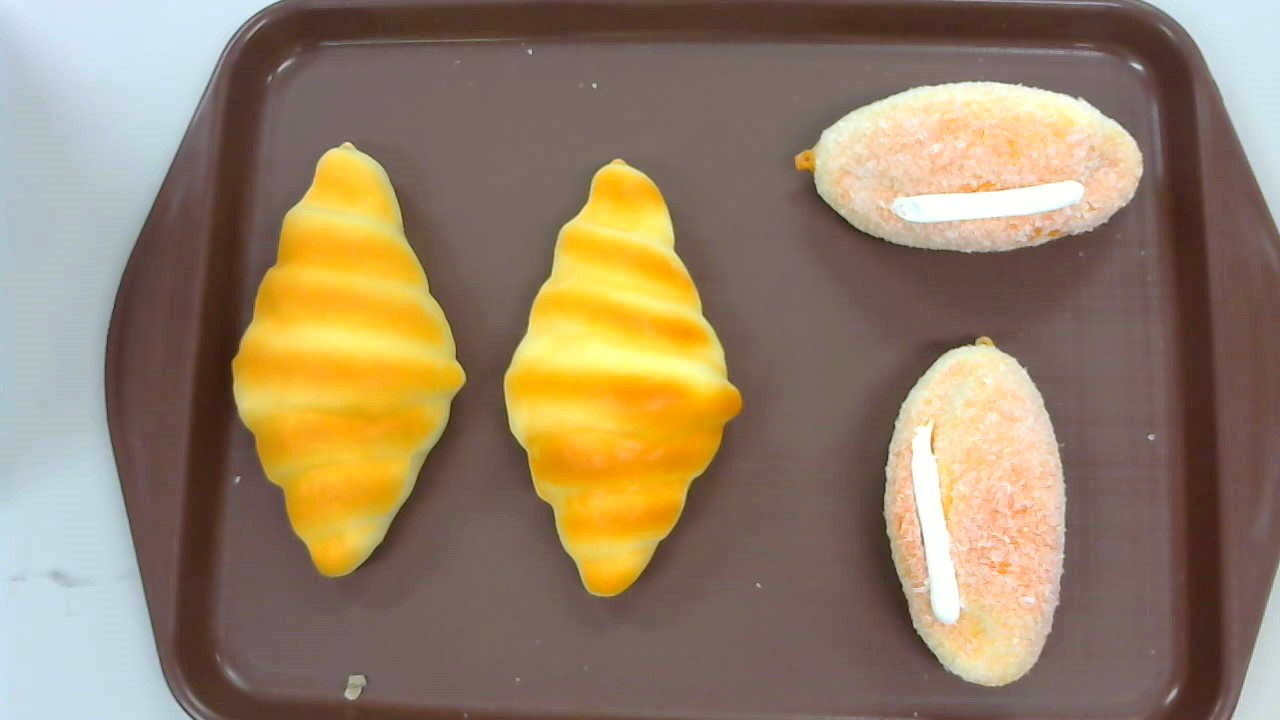coconut: (883, 334, 1066, 686), (793, 81, 1143, 255)
croissant: (504, 157, 742, 599), (230, 142, 466, 579)
